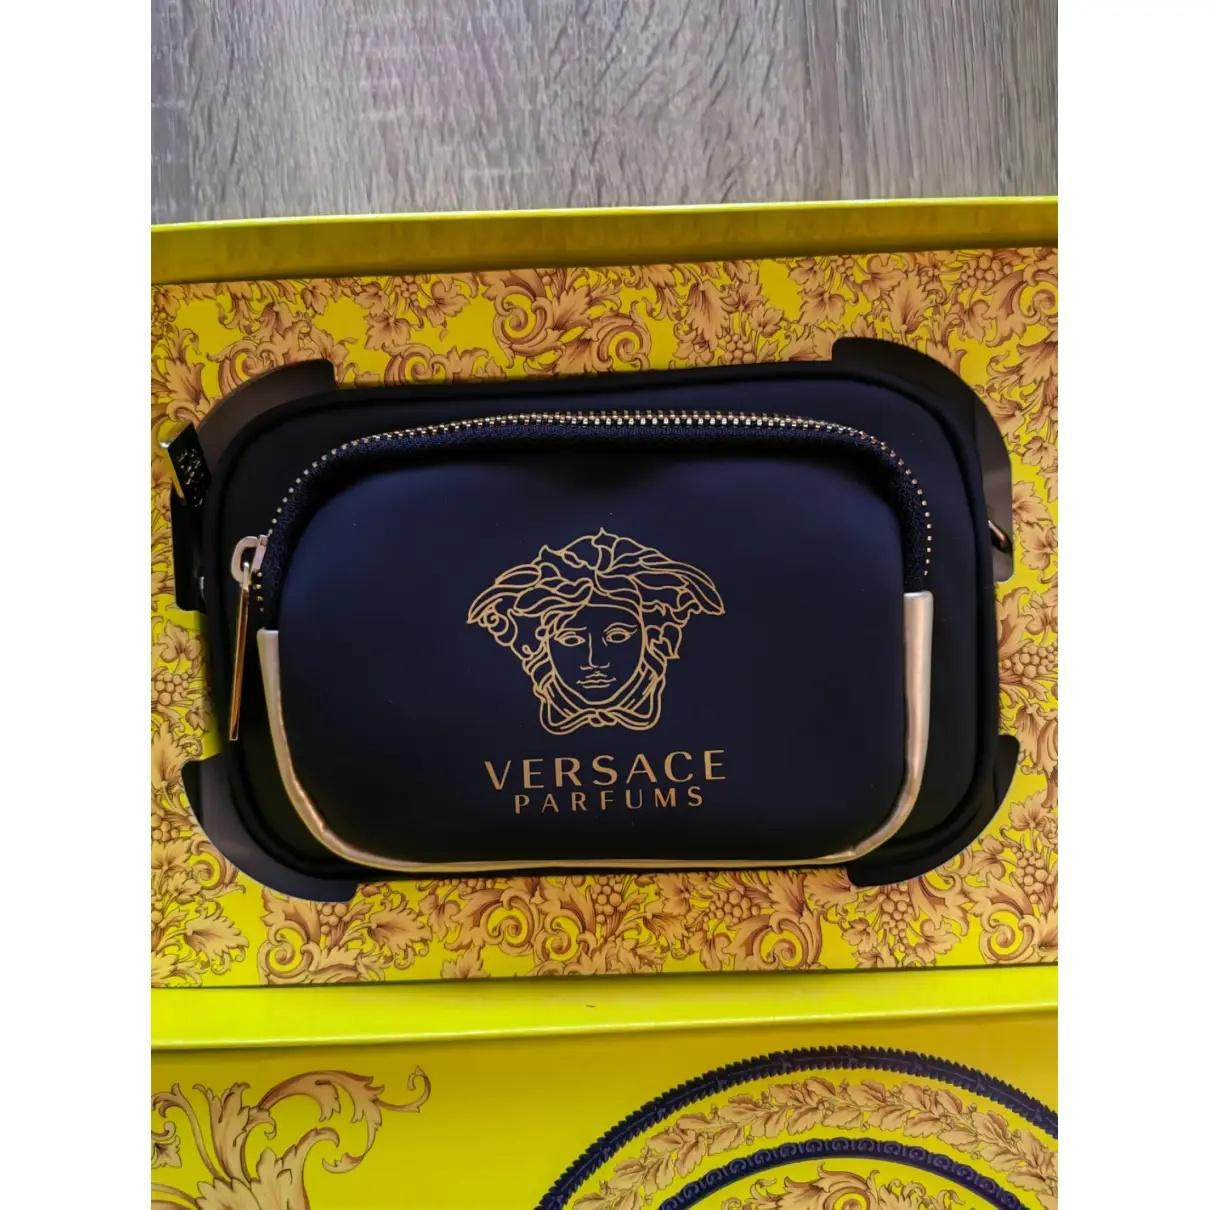VERSACE: (462, 525, 726, 739)
